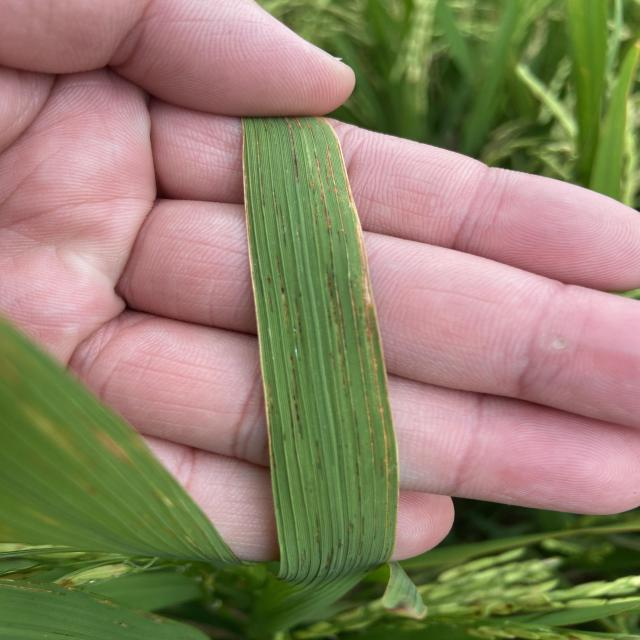Dom soc vi khuan: (307, 124, 333, 235), (327, 273, 347, 393), (325, 140, 347, 242), (329, 242, 347, 348), (273, 254, 290, 334), (288, 356, 303, 442), (284, 117, 299, 182), (294, 299, 304, 346)
